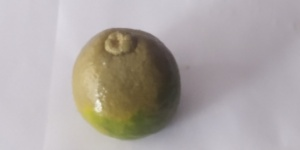BAD: (76, 28, 179, 142)
